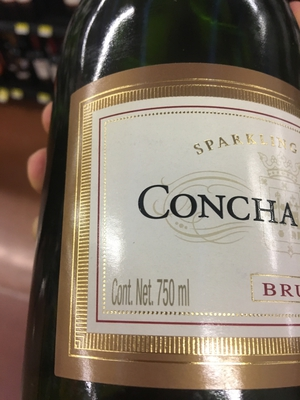brut: (45, 17, 300, 400)
